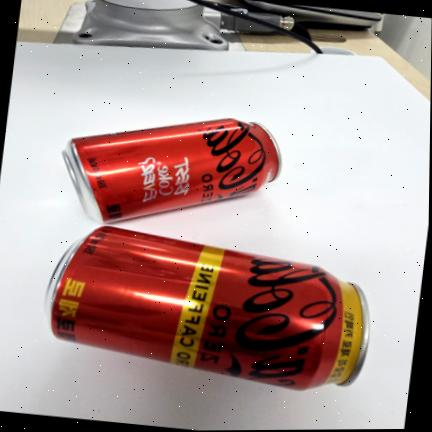can_coke_decaf: (48, 228, 369, 390)
can_coke_zero: (62, 119, 282, 223)
